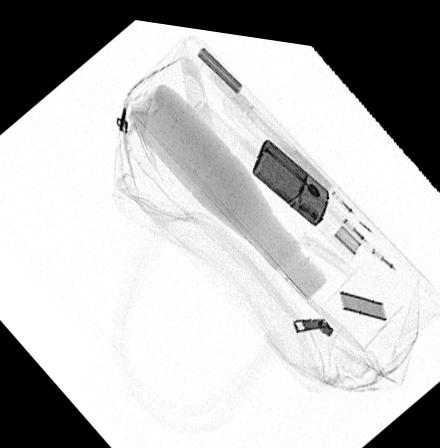Lighter: (251, 129, 329, 214)
